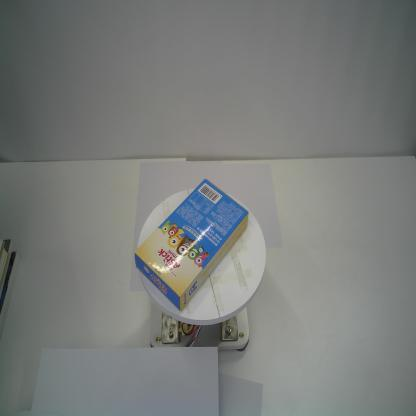Dessert: (133, 177, 250, 313)
